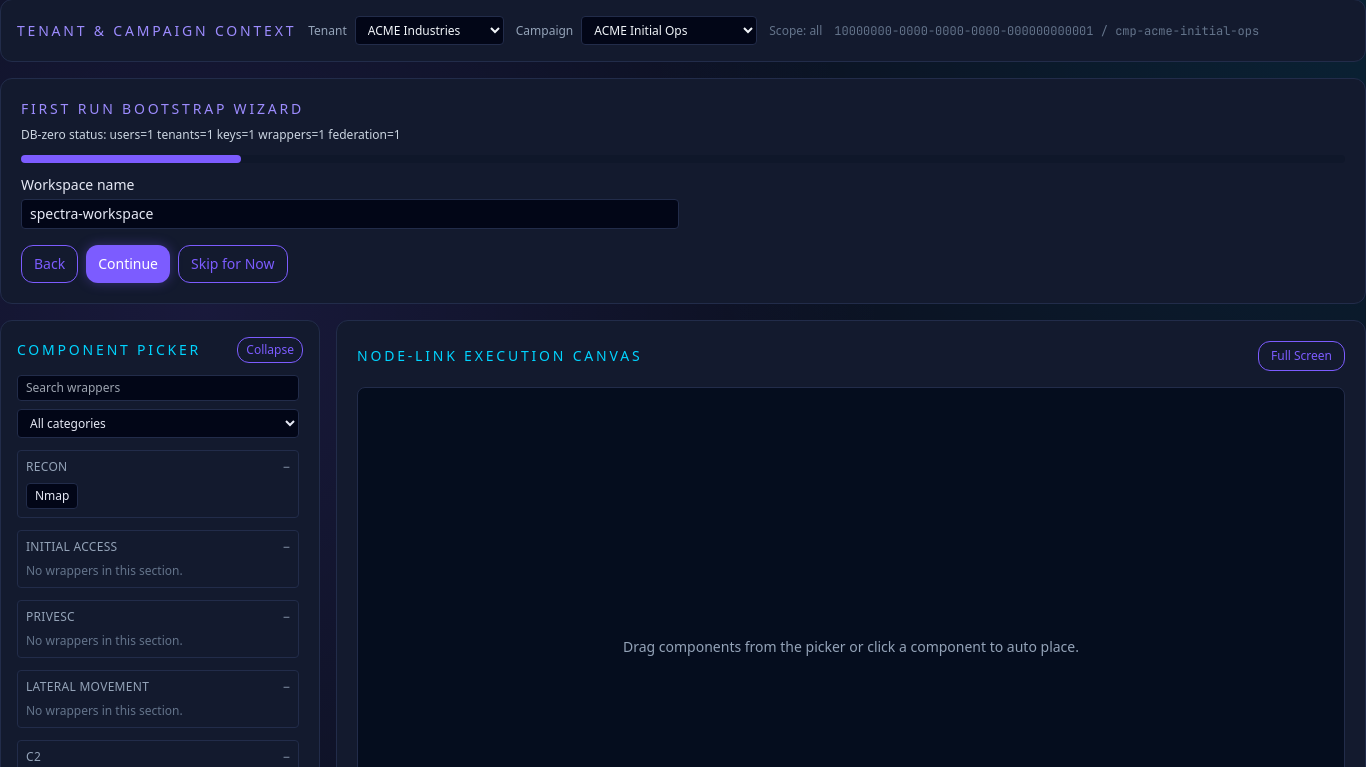
WorkflowWorkbench UI state consistency › allows loading and unloading campaign timeline steps
Click the button "Nmap": coordinates (52, 496) [26, 483, 78, 509]
(page scrolled)
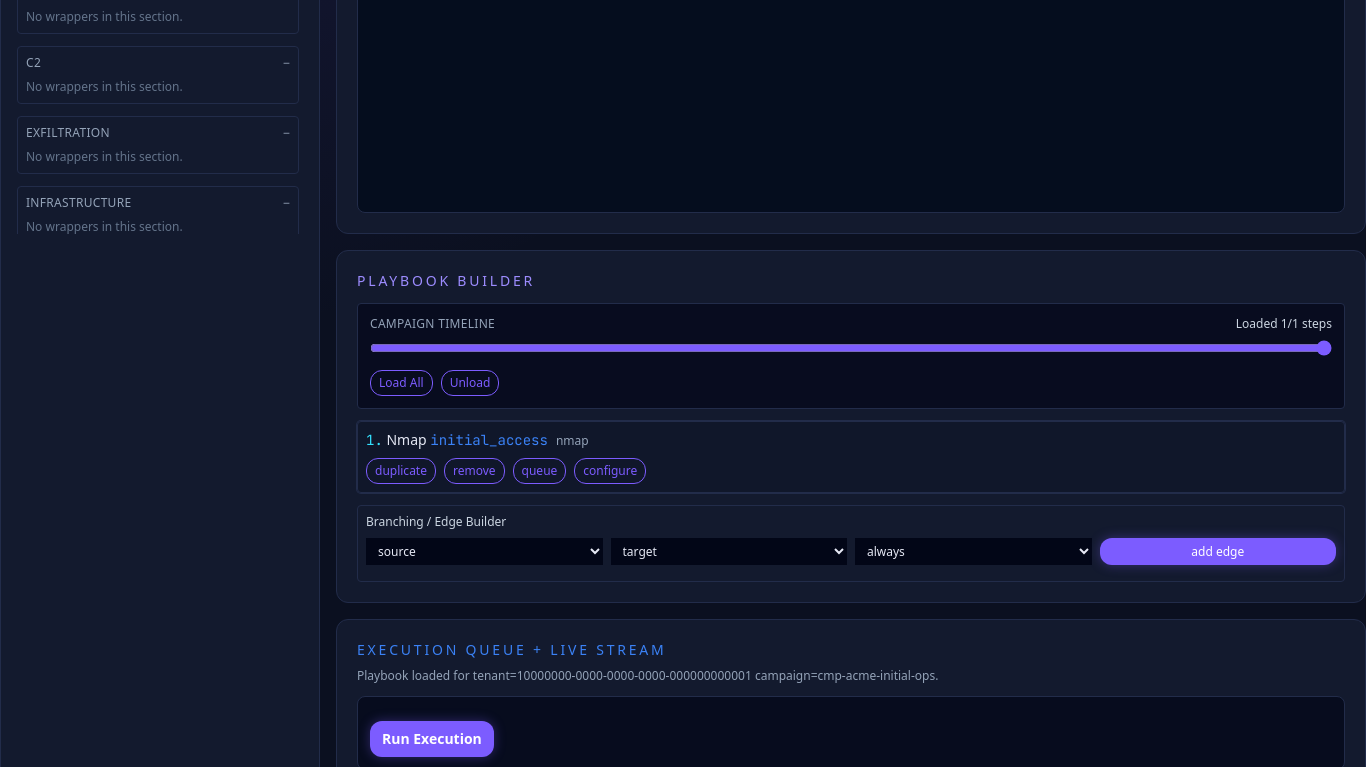
Check: the element with test id "playbook-list" shows "Nmap", box [386, 430, 427, 449]
Click the button "Unload": coordinates (470, 383) [441, 370, 499, 396]
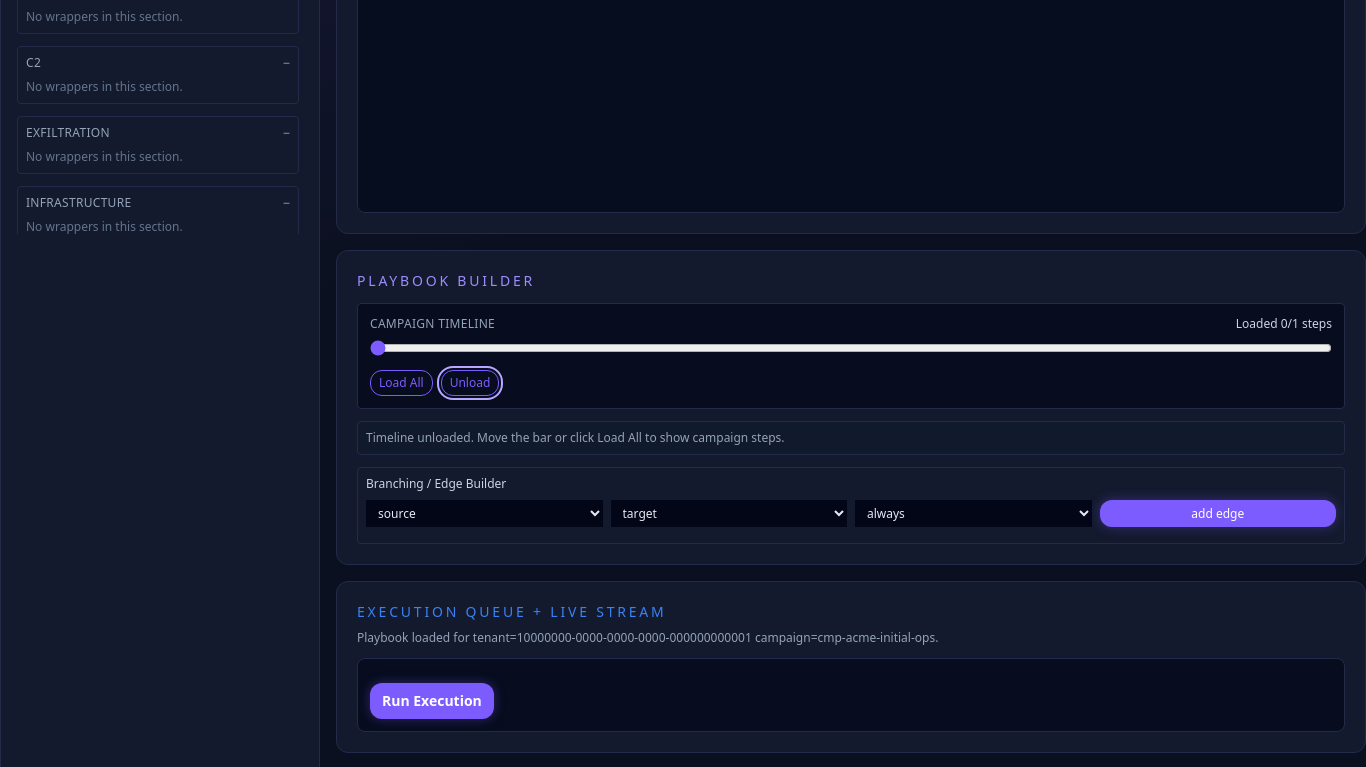
Check: the element with test id "playbook-list" shows "Timeline unloaded", box [366, 429, 785, 446]
Click the button "Load All": coordinates (401, 383) [370, 370, 433, 396]
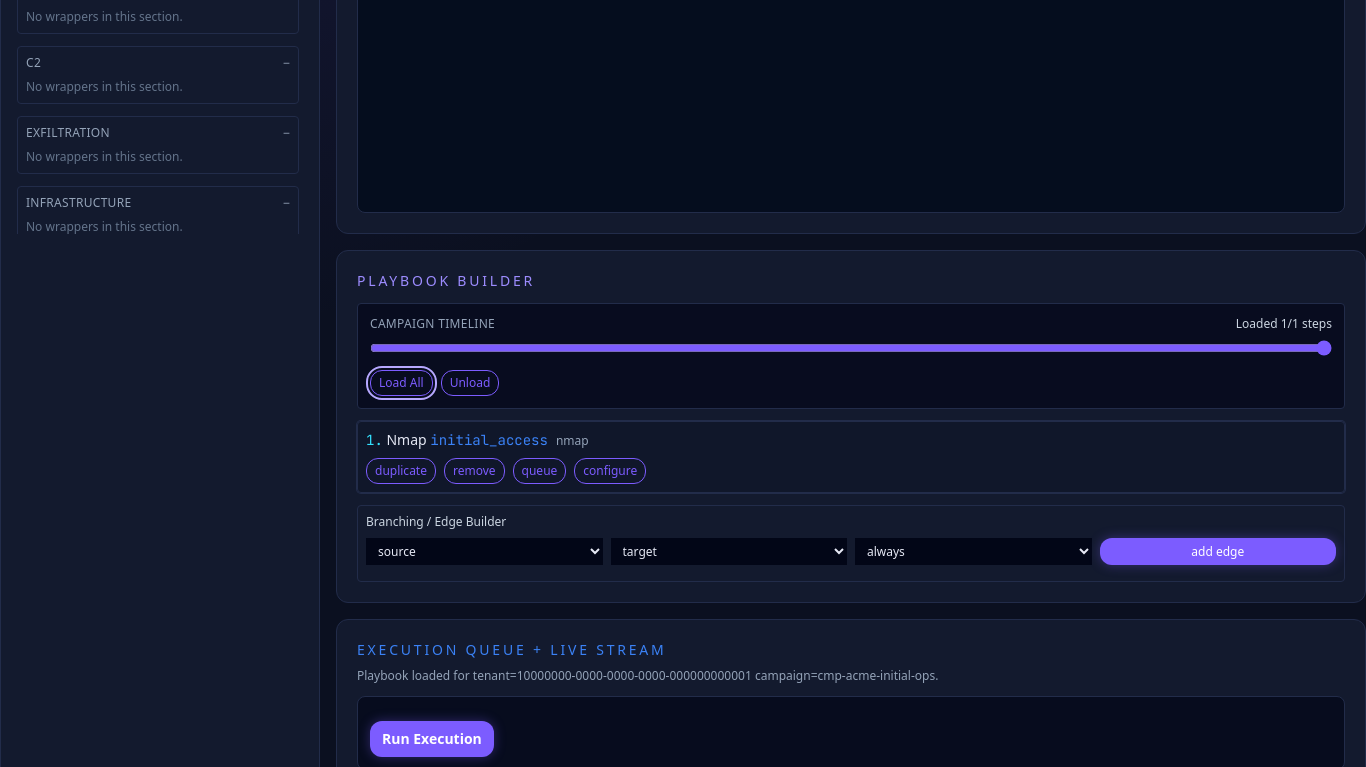
Check: the element with test id "playbook-list" shows "Nmap", box [386, 430, 427, 449]
